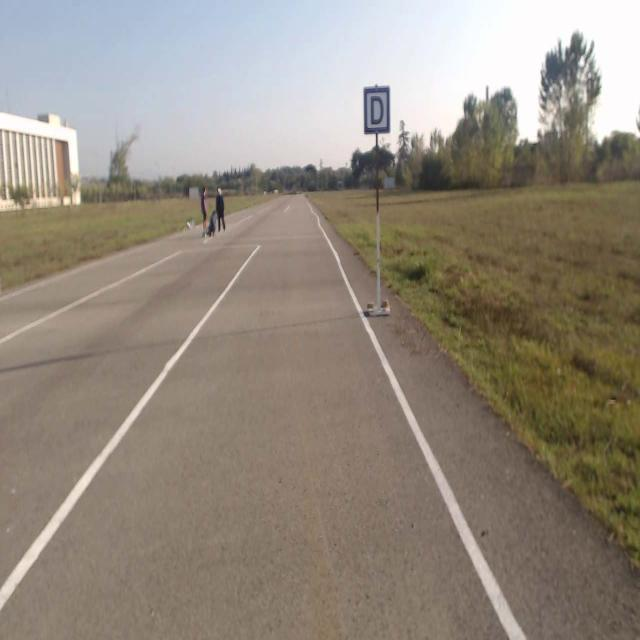durak: (364, 86, 391, 134)
